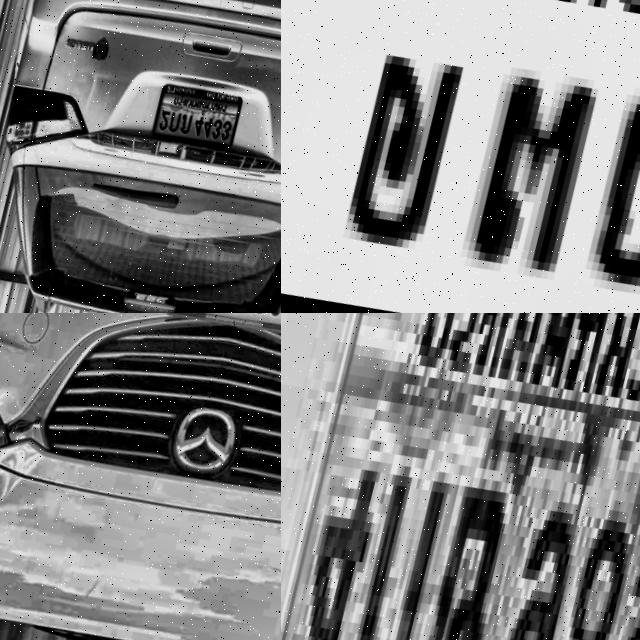license-plate: (281, 313, 640, 640), (281, 0, 640, 313), (141, 72, 253, 173), (158, 313, 281, 360)
